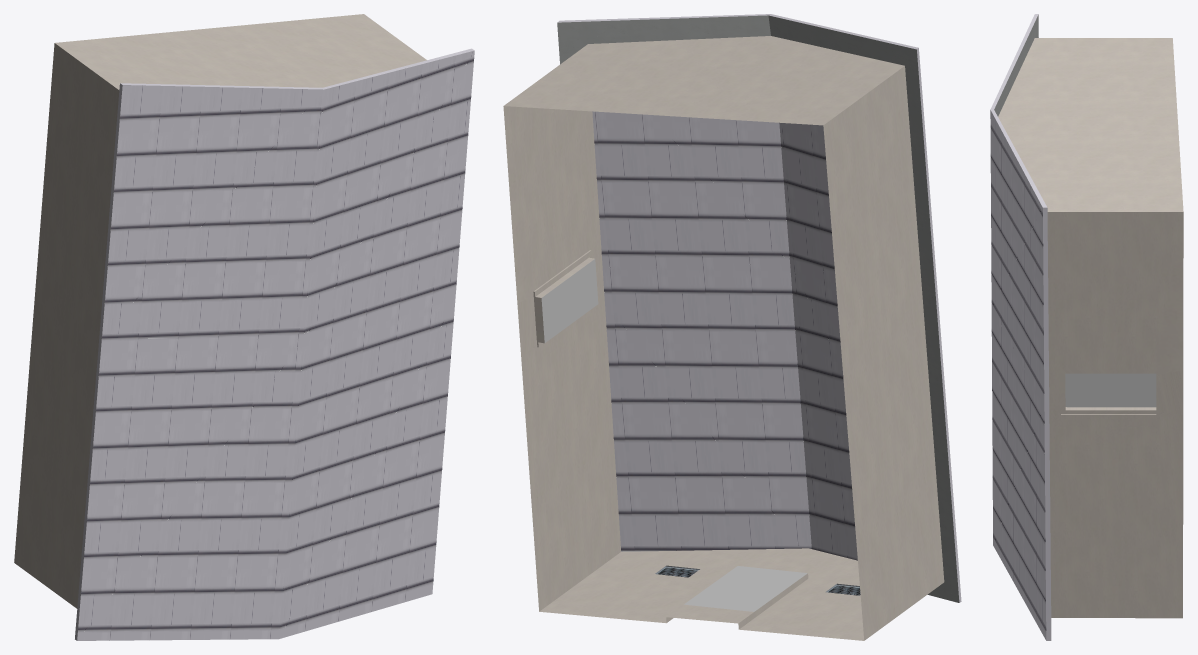
The model's file is Munga_5a.obj.
3 views of the same model, side by side, from view 1: azimuth 30°, elevation 25°; view 2: azimuth 150°, elevation 25°; view 3: azimuth 270°, elevation 25° (orthographic). The views are drawn at different scales.
Parts seen in each view (by area): view 1: Munga_5a; view 2: Munga_5a; view 3: Munga_5a.
Part boxes in pixels (x1,y1,x2,y2): Munga_5a: (14, 14, 474, 640); Munga_5a: (503, 14, 961, 640); Munga_5a: (990, 14, 1183, 640).
Bounding box in the file's own units: 11.07 × 15.59 × 5.49.
